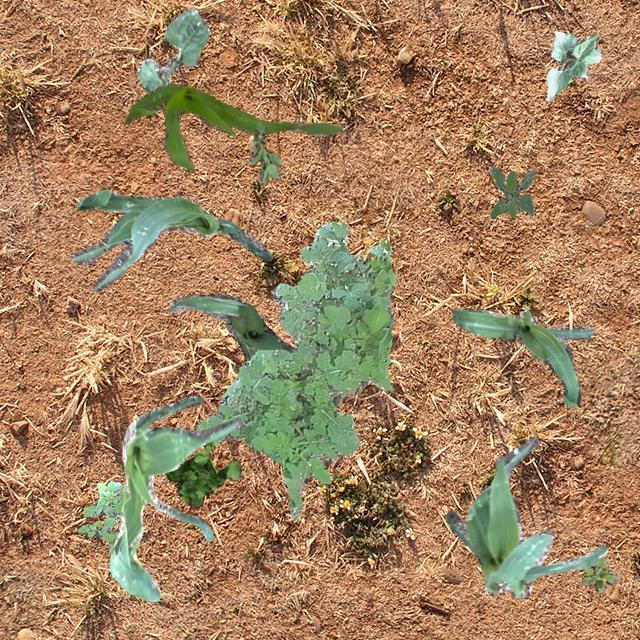crop: (108, 396, 242, 600), (444, 436, 606, 598), (70, 188, 272, 290), (124, 82, 342, 170), (452, 308, 592, 407), (168, 292, 292, 360), (136, 6, 208, 92), (544, 30, 602, 100)
weed: (194, 220, 396, 520), (163, 439, 240, 506), (76, 480, 126, 552), (488, 165, 534, 218), (246, 122, 282, 184), (580, 554, 618, 590)
